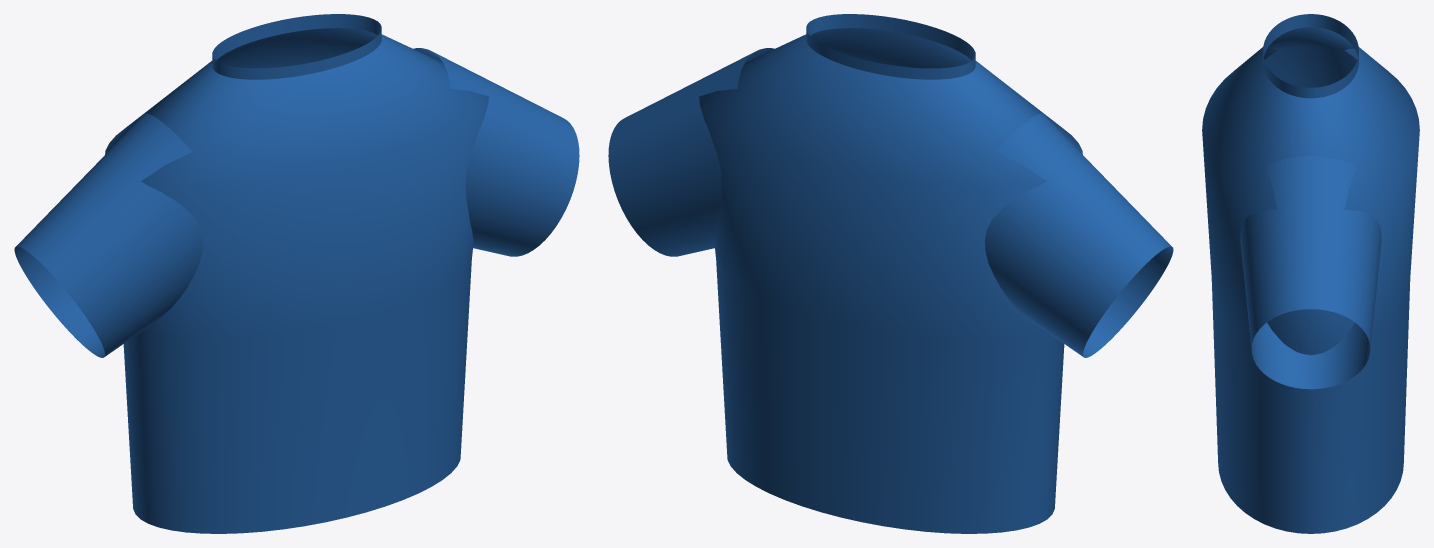
Rendered from fai-tee-prototype.glb.
3 renders of one model, left to right at view 1: azimuth 30°, elevation 25°; view 2: azimuth 150°, elevation 25°; view 3: azimuth 270°, elevation 25°, orthographic. The views are drawn at different scales.
Visible parts, largest first — view 1: Body, Sleeve left, Sleeve right, Neck opening; view 2: Body, Sleeve left, Sleeve right, Neck opening; view 3: Body, Sleeve right, Neck opening.
Part boxes in pixels (box(x1,y1,x2,y2)): Body: box(105, 28, 488, 533); Sleeve left: box(14, 113, 202, 357); Sleeve right: box(413, 48, 579, 256); Neck opening: box(212, 14, 381, 79); Body: box(699, 28, 1082, 533); Sleeve left: box(985, 113, 1173, 357); Sleeve right: box(608, 48, 774, 256); Neck opening: box(806, 14, 975, 79); Body: box(1202, 27, 1419, 533); Sleeve right: box(1240, 156, 1381, 389); Neck opening: box(1263, 14, 1358, 98).
Size of the model in its own units: 1 by 0.78 by 0.374.
